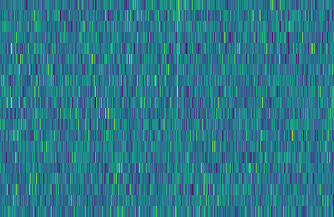signal: (170, 0, 182, 217)
